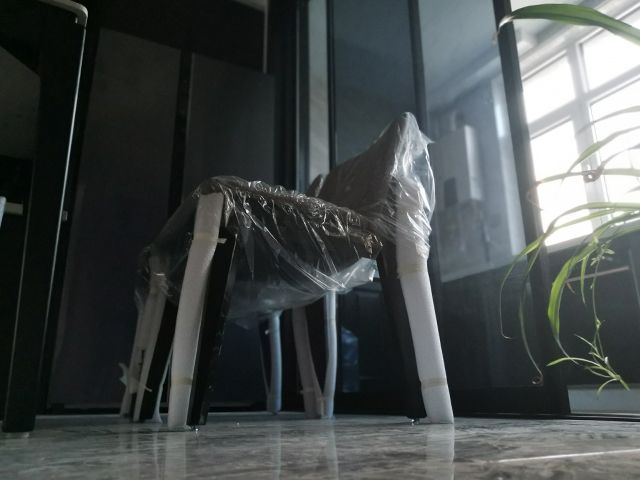stool: (118, 109, 456, 432)
